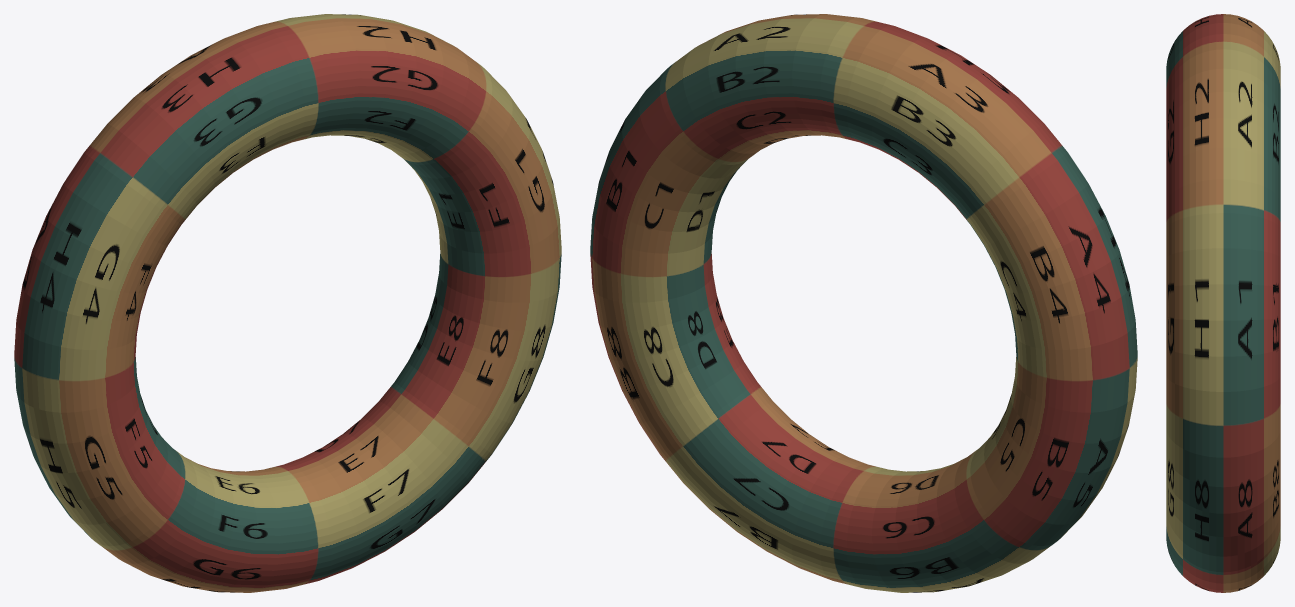
Rendered from texture_torus_R2_r3.glb.
The picture shows the model from 3 angles, left to right: view 1: azimuth 30°, elevation 25°; view 2: azimuth 150°, elevation 25°; view 3: azimuth 270°, elevation 25°; orthographic projection. The views are drawn at different scales.
Visible parts, largest first — view 1: world; view 2: world; view 3: world.
Boxes of the visible parts, x1=… form: world: x1=14, y1=14, x2=561, y2=592; world: x1=590, y1=14, x2=1137, y2=592; world: x1=1166, y1=14, x2=1280, y2=592.
Size of the model in its own units: 14.13 by 14.11 by 2.79.
Materials: 1 (1 with a texture image).
